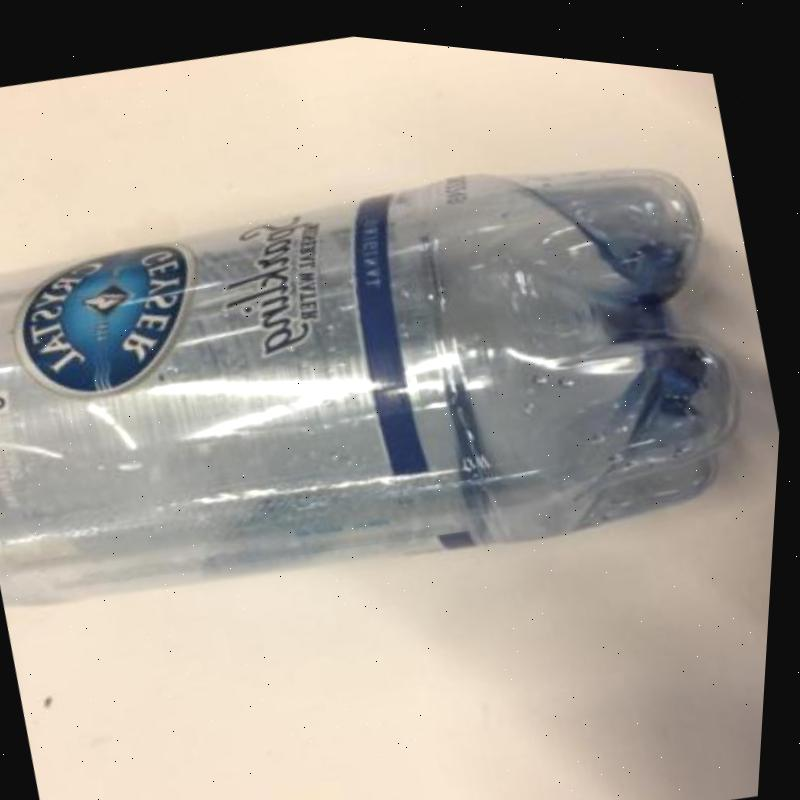botella: (0, 71, 775, 677)
